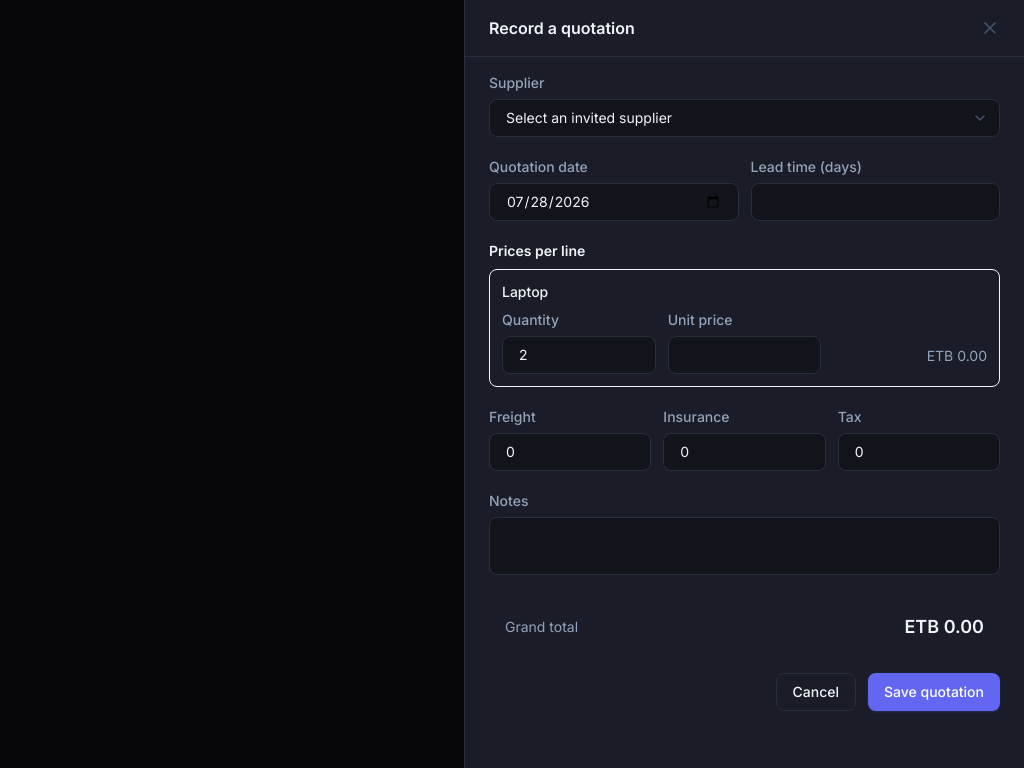
Test: BidFormDrawer › will not save a quotation with a line left unpriced
The image size is (1024, 768).
Select "Alpha" in the dropdown labelled "Supplier" at {"x": 744, "y": 118}, box [489,99,1000,137]
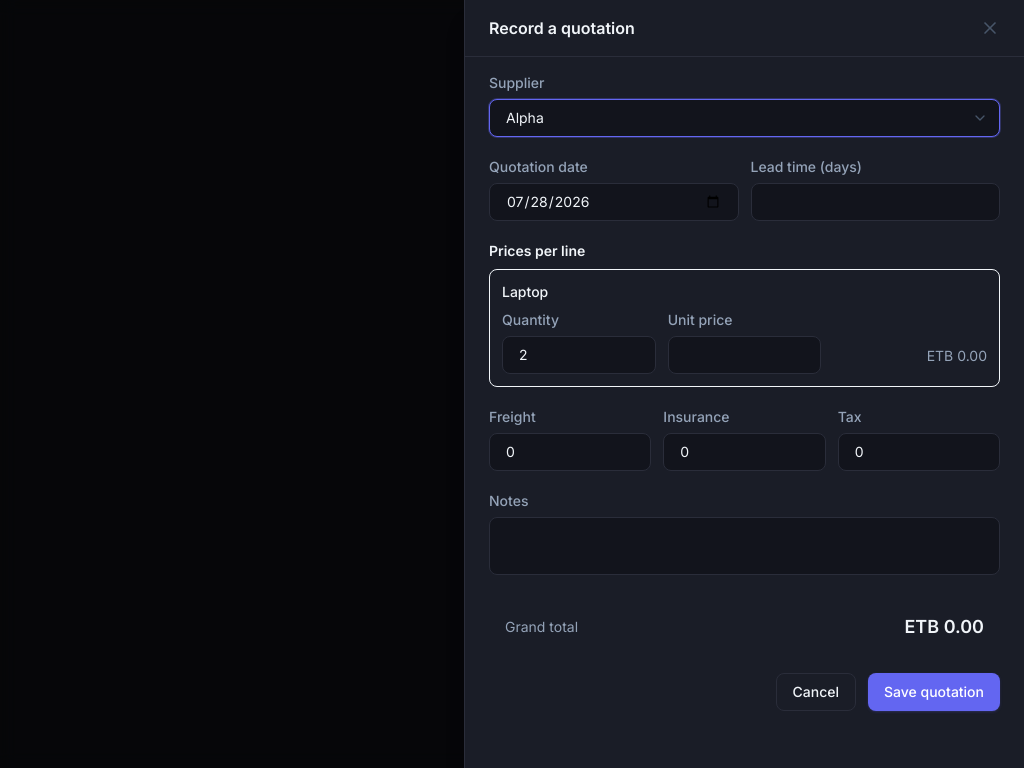
Click the button "Save quotation" at {"x": 934, "y": 692}, box [868,673,1000,711]
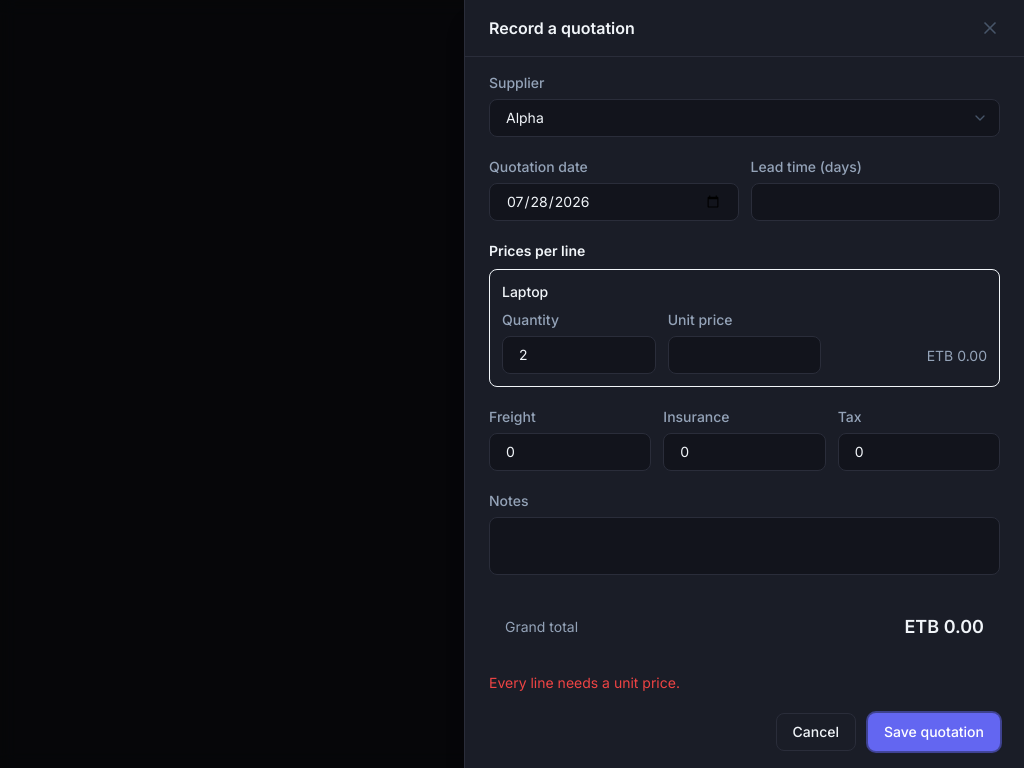
expect the text "Every line needs a unit price." is shown: met, box [489,674,680,691]
